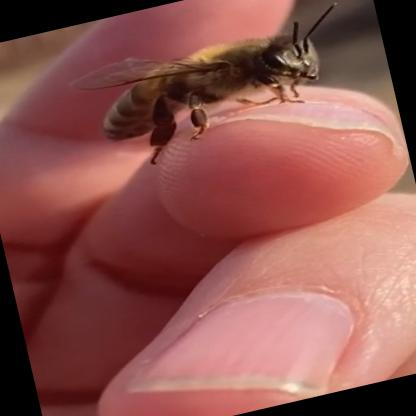bee: (20, 0, 399, 191)
